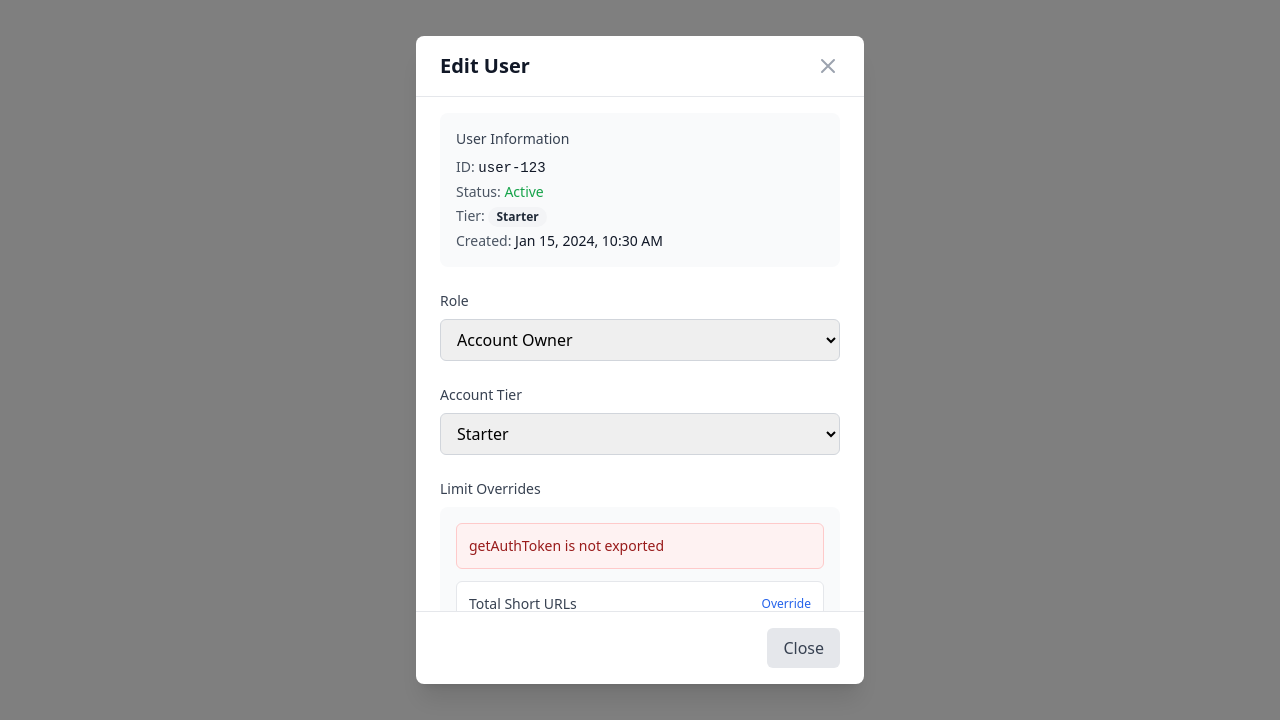
Scenario: UserEditModal › Admin role warning dialog › should show warning dialog when admin role is selected
Select "Administrator" in the dropdown labelled "Role" at (640,340), box [440,319,840,361]
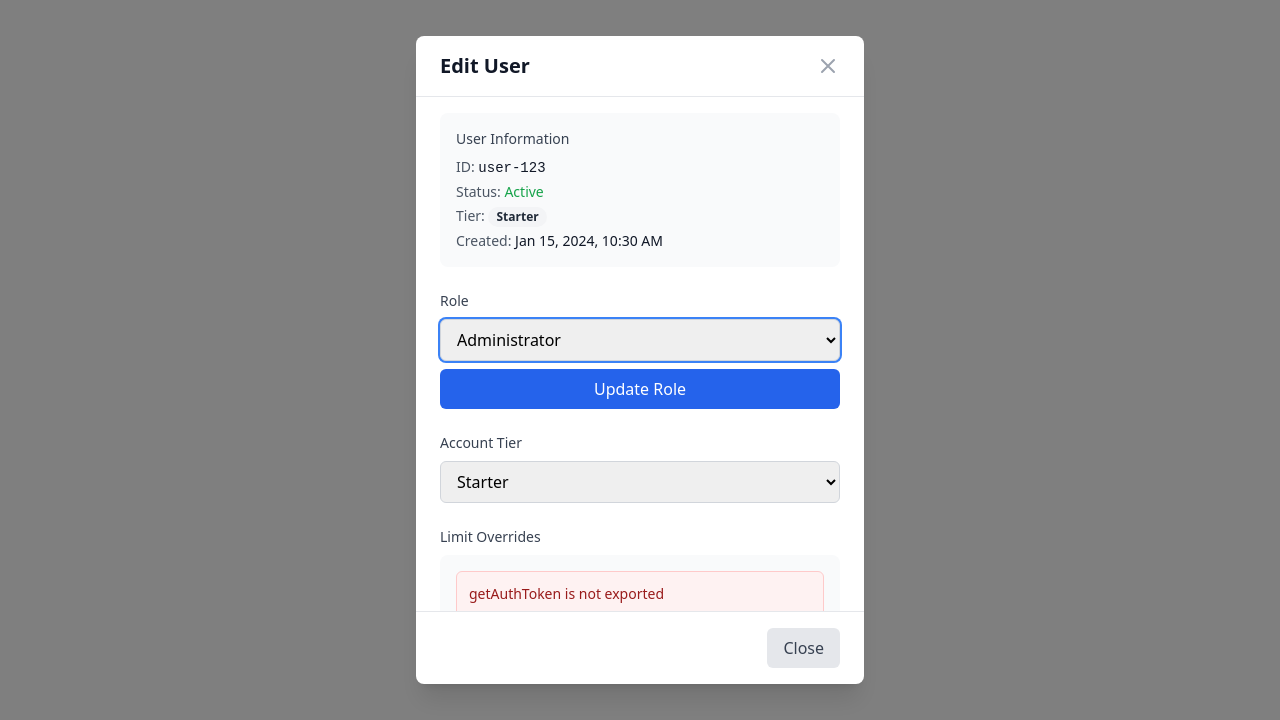
Click the button "Update Role" at (640,389), box [440,369,840,409]
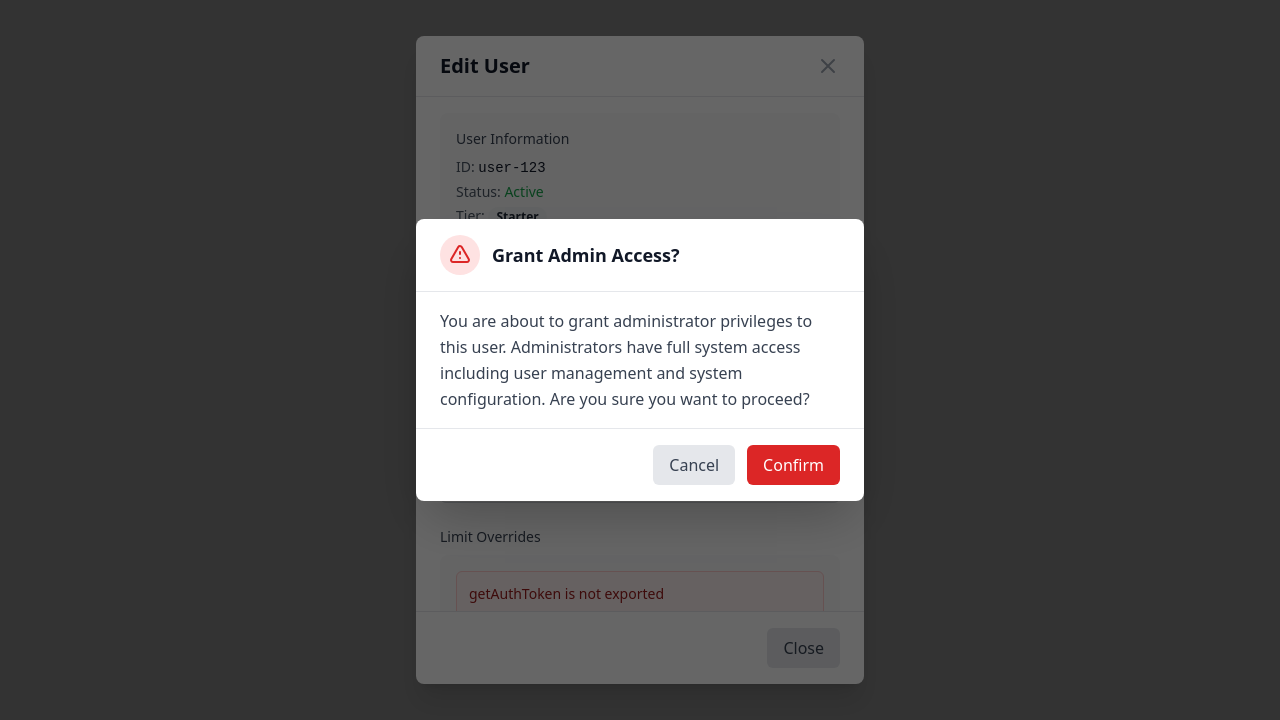
Now the heading "Grant Admin Access?" is shown, box [492,241,680,269]
Now the text "administrators have full system access" is shown, box [440,310,812,410]
